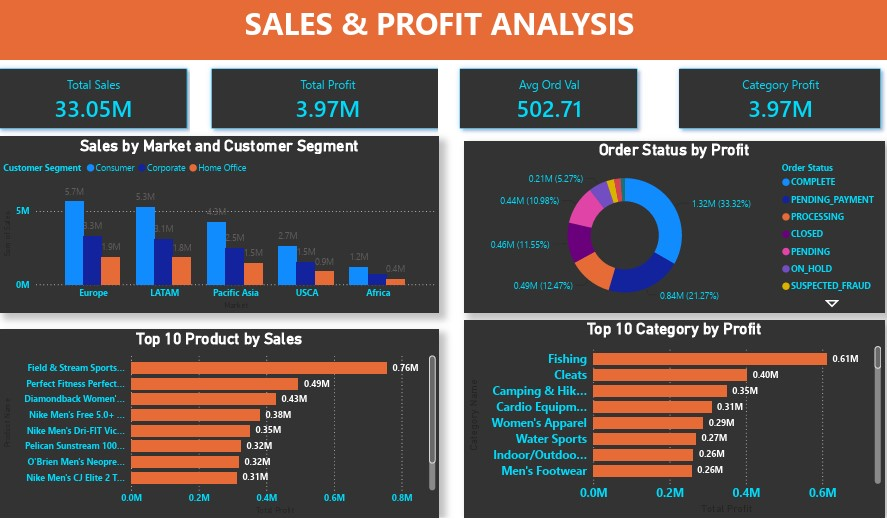

Layout of this report page (visuals, bound fields, positions):
{"tool":"powerbi","page":{"name":"Page 1","canvas":[1280,720],"ordinal":0},"visuals":[{"type":"clusteredBarChart","title":"Top 10 Category by Profit","fields":{"Y":["DataCoSupplyChainDataset.Total Profit"],"Category":["DataCoSupplyChainDataset.Category Name"]},"box":[673.8,445.9,582,273.8],"z":0},{"type":"clusteredBarChart","title":"Top 10 Product by Sales","fields":{"Y":["DataCoSupplyChainDataset.Total Profit"],"Category":["DataCoSupplyChainDataset.Product Name"]},"box":[31.1,459,608.2,260.7],"z":1000},{"type":"cardVisual","fields":{"Data":["DataCoSupplyChainDataset.Total Sales"]},"box":[0,68.9,319.7,141],"z":2000},{"type":"cardVisual","fields":{"Data":["DataCoSupplyChainDataset.Total Profit"]},"box":[295.1,68.9,378.7,141],"z":3000},{"type":"cardVisual","fields":{"Data":["DataCoSupplyChainDataset.Avg Ord Val"]},"box":[639.3,68.9,303.3,141],"z":4000},{"type":"cardVisual","fields":{"Data":["DataCoSupplyChainDataset.Category Profit"]},"box":[942.6,68.9,337.7,141],"z":5000},{"type":"textbox","box":[0,0,1280.3,85.2],"z":6000},{"type":"clusteredColumnChart","title":"Sales by Market and Customer Segment","fields":{"Category":["DataCoSupplyChainDataset.Market"],"Series":["DataCoSupplyChainDataset.Customer Segment"],"Y":["Sum(DataCoSupplyChainDataset.Sales)"]},"box":[31.1,191.8,608.2,244.3],"z":7000},{"type":"donutChart","title":"Order Status by Profit","fields":{"Category":["DataCoSupplyChainDataset.Order Status"],"Y":["Sum(DataCoSupplyChainDataset.Order Profit Per Order)"]},"box":[673.8,198.4,582,237.7],"z":8000}]}

Visuals, with their boxes on the page's 1280x720 design canvas (x1, y1, x2, y2). These are canvas units, not pixel positions in the 887x519 screenshot, which may show the page scaled, cropped or inside an application window:
"Top 10 Category by Profit" clusteredBarChart: detection(674, 446, 1256, 720)
"Top 10 Product by Sales" clusteredBarChart: detection(31, 459, 639, 720)
cardVisual - DataCoSupplyChainDataset.Total Sales: detection(0, 69, 320, 210)
cardVisual - DataCoSupplyChainDataset.Total Profit: detection(295, 69, 674, 210)
cardVisual - DataCoSupplyChainDataset.Avg Ord Val: detection(639, 69, 943, 210)
cardVisual - DataCoSupplyChainDataset.Category Profit: detection(943, 69, 1280, 210)
textbox: detection(0, 0, 1280, 85)
"Sales by Market and Customer Segment" clusteredColumnChart: detection(31, 192, 639, 436)
"Order Status by Profit" donutChart: detection(674, 198, 1256, 436)
